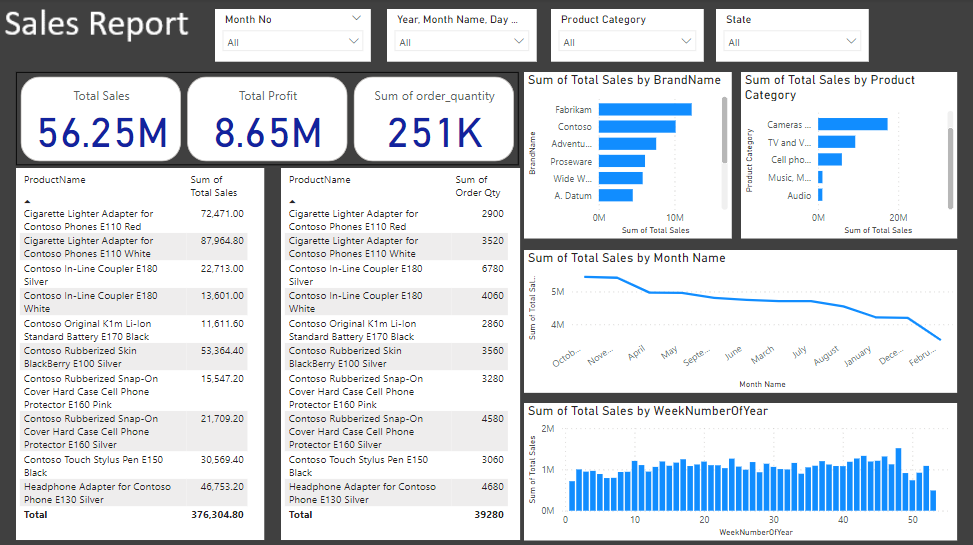

Layout of this report page (visuals, bound fields, positions):
{"tool":"powerbi","page":{"name":"Page 1","canvas":[1280,720],"ordinal":0},"visuals":[{"type":"slicer","fields":{"Values":["date_table.Month No"]},"box":[285.7,12.9,204.3,68.6],"z":0},{"type":"cardVisual","fields":{"Data":["Measures Table.Total Sales","Measures Table.Total Profit","Measures Table.Sum of order_quantity"]},"box":[25,95,658.3,121.7],"z":1000},{"type":"lineChart","fields":{"Category":["date_table.Month Name"],"Y":["Sum(sales_data.Total Sales)"]},"box":[690,328.3,566.7,186.7],"z":2000},{"type":"columnChart","fields":{"Category":["date_table.WeekNumberOfYear"],"Y":["Sum(sales_data.Total Sales)"]},"box":[690,528.3,566.7,180],"z":3000},{"type":"pivotTable","fields":{"Rows":["sales_product.ProductName"],"Values":["Sum(sales_data.Order Qty)"]},"box":[371.4,221.4,312.9,487.1],"z":4000},{"type":"pivotTable","fields":{"Rows":["sales_product.ProductName"],"Values":["Sum(sales_data.Total Sales)"]},"box":[25,221.7,325,486.7],"z":5000},{"type":"barChart","fields":{"Category":["sales_product.BrandName"],"Y":["Sum(sales_data.Total Sales)"]},"box":[690,95,271.7,218.3],"z":6000},{"type":"barChart","fields":{"Category":["sales_product_subcategory.Product Category"],"Y":["Sum(sales_data.Total Sales)"]},"box":[973.3,95,283.3,218.3],"z":7000},{"type":"slicer","fields":{"Values":["date_table.Year","date_table.Month Name","date_table.Day Number"]},"box":[510,12.9,195.7,68.6],"z":8000},{"type":"slicer","fields":{"Values":["sales_product_subcategory.Product Category"]},"box":[725.7,12.9,200,68.6],"z":9000},{"type":"slicer","fields":{"Values":["sales_state.State"]},"box":[941.4,12.9,200,68.6],"z":10000}]}

Visuals, with their boxes in screenshot pixels (x1, y1, x2, y2), scaled from the page's 1280x720 canvas onto the 973x545 screenshot:
slicer - date_table.Month No: bbox=(217, 10, 372, 62)
cardVisual - Measures Table.Total Sales x Measures Table.Total Profit: bbox=(19, 72, 519, 164)
lineChart - date_table.Month Name x Sum(sales_data.Total Sales): bbox=(525, 249, 955, 390)
columnChart - date_table.WeekNumberOfYear x Sum(sales_data.Total Sales): bbox=(525, 400, 955, 536)
pivotTable - sales_product.ProductName x Sum(sales_data.Order Qty): bbox=(282, 168, 520, 536)
pivotTable - sales_product.ProductName x Sum(sales_data.Total Sales): bbox=(19, 168, 266, 536)
barChart - sales_product.BrandName x Sum(sales_data.Total Sales): bbox=(525, 72, 731, 237)
barChart - sales_product_subcategory.Product Category x Sum(sales_data.Total Sales): bbox=(740, 72, 955, 237)
slicer - date_table.Year x date_table.Month Name: bbox=(388, 10, 536, 62)
slicer - sales_product_subcategory.Product Category: bbox=(552, 10, 704, 62)
slicer - sales_state.State: bbox=(716, 10, 868, 62)
